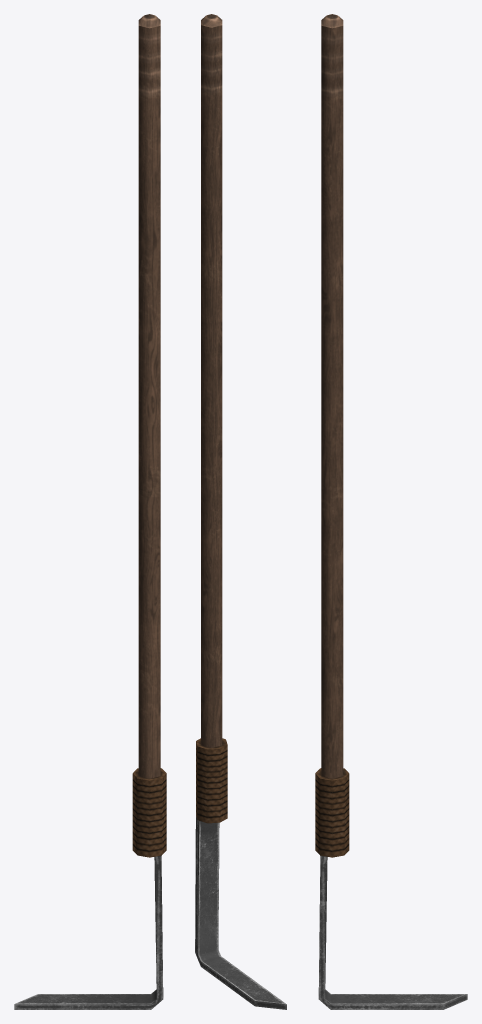
Rendered from LOD1_fireIron.fbx.
3 renders of one model, left to right at view 1: azimuth 90°, elevation 25°; view 2: azimuth 210°, elevation 25°; view 3: azimuth 270°, elevation 25°, orthographic. The views are drawn at different scales.
Visible parts, largest first — view 1: LOD1_fireIron; view 2: LOD1_fireIron; view 3: LOD1_fireIron.
Part boxes in pixels (x1,y1,x2,y2): LOD1_fireIron: (14,14,166,1009); LOD1_fireIron: (195,14,286,1009); LOD1_fireIron: (315,14,467,1009).
Size of the model in its own units: 0.0473 by 1.51 by 0.2108.
